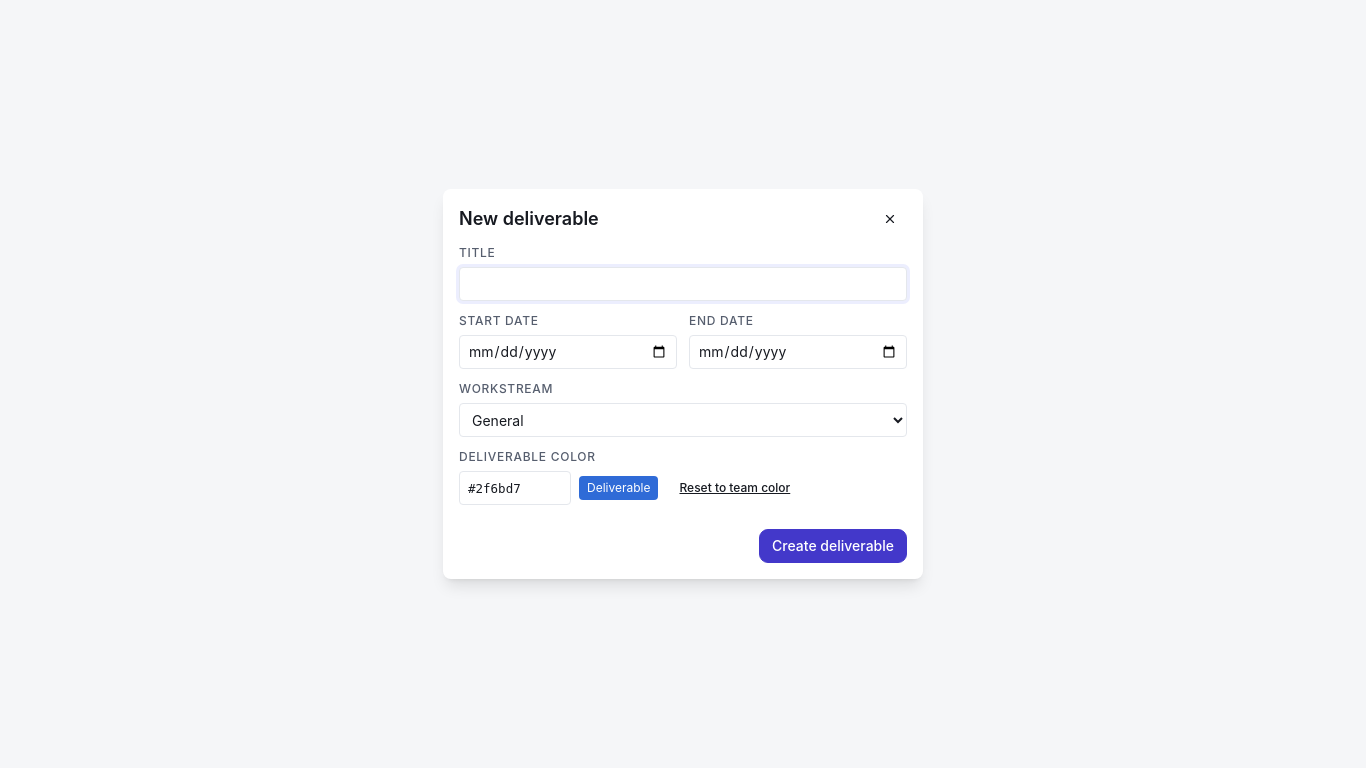
Test case: REQ_FE_028/029 create-deliverable dialog › REQ_FE_029 starts pre-filled with the team default color, and "Reset to team color" restores it after a change
Replace the text in the field labelled "Deliverable color" with "#ff0000" at (515, 488), box x1=459 y1=471 x2=571 y2=505
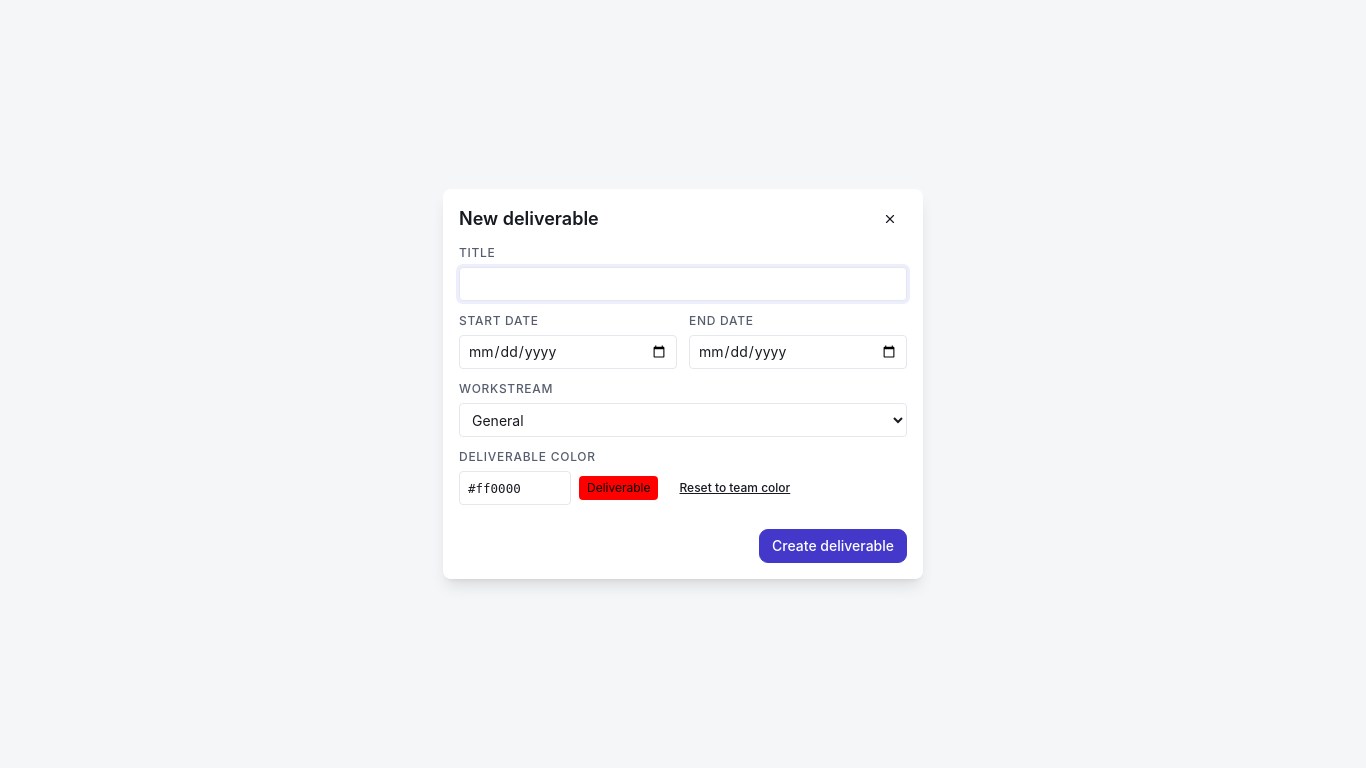
Click the button "Reset to team color" at (735, 488), box x1=666 y1=471 x2=803 y2=505
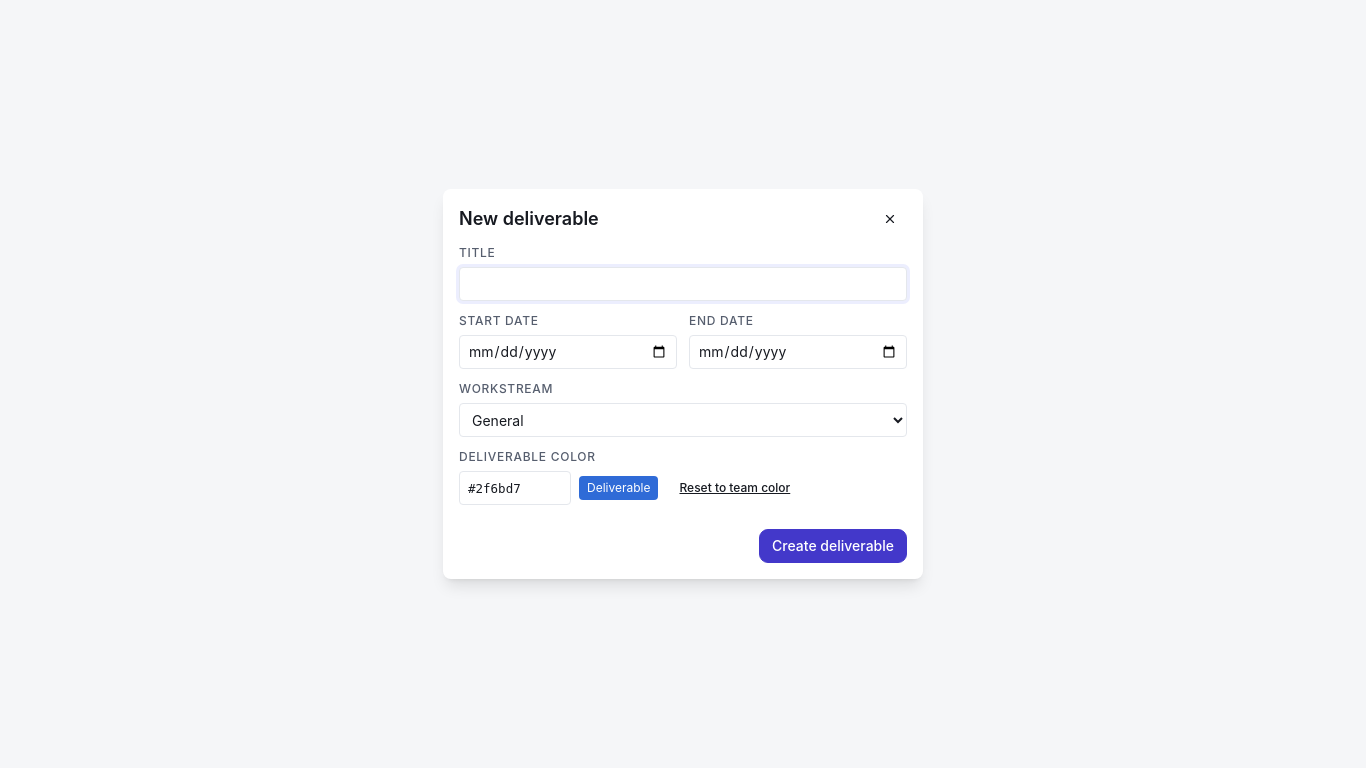
Expected: the field labelled "Deliverable color" holds "#2f6bd7", x1=459 y1=471 x2=571 y2=505
